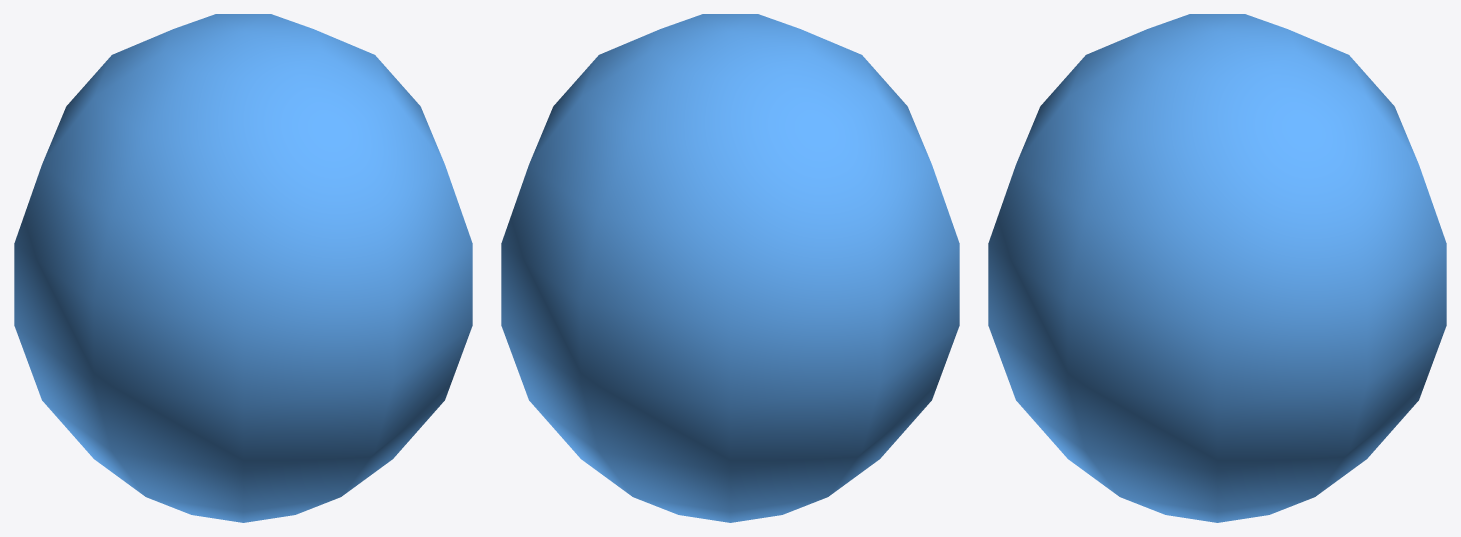
Rendered from windling_stage1.obj.
3 renders of one model, left to right at view 1: azimuth 30°, elevation 25°; view 2: azimuth 150°, elevation 25°; view 3: azimuth 270°, elevation 25°, orthographic.
Bounding box in the file's own units: 1.24 × 1.43 × 1.26.
